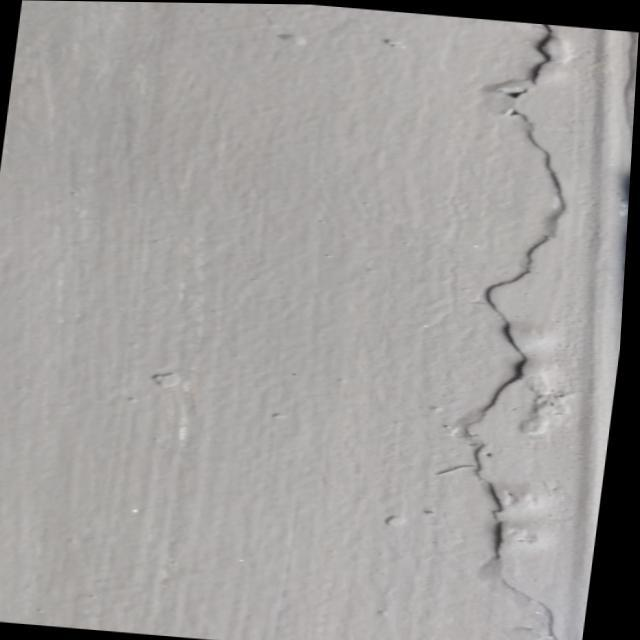Crack: (468, 30, 569, 585)
